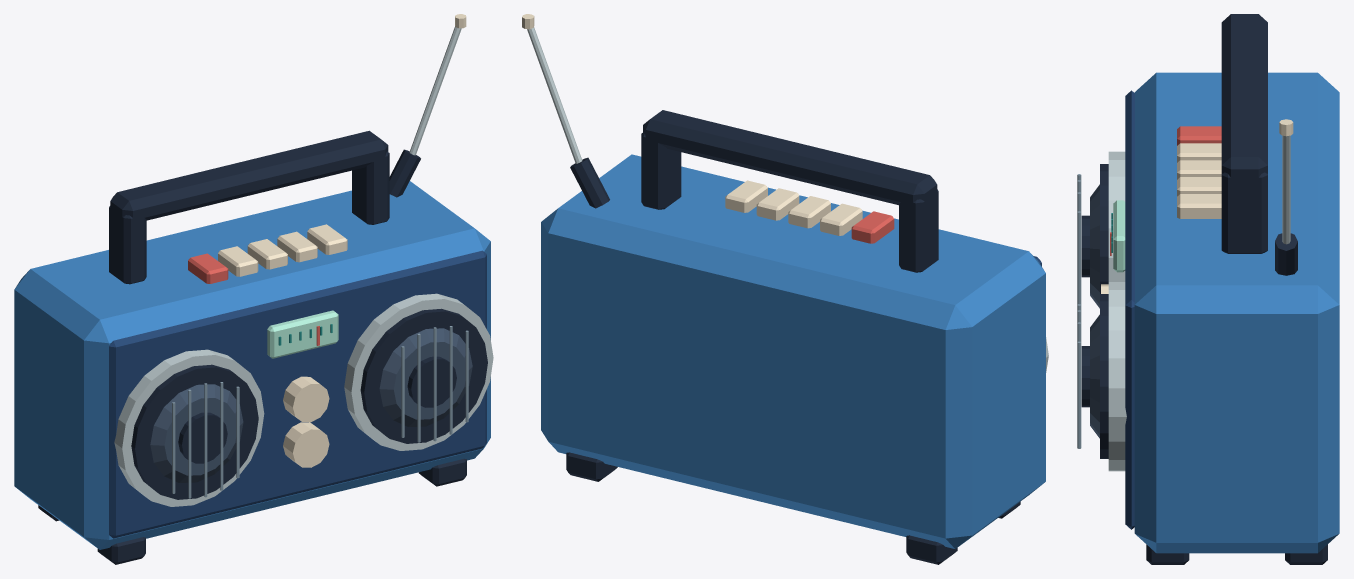
Rendered from Portable_Radio.glb.
The picture shows the model from 3 angles, left to right: view 1: azimuth 30°, elevation 25°; view 2: azimuth 150°, elevation 25°; view 3: azimuth 270°, elevation 25°; orthographic projection. The views are drawn at different scales.
Visible parts, largest first — view 1: Portable_Radio; view 2: Portable_Radio; view 3: Portable_Radio.
Part boxes in pixels (bbox=[...]): Portable_Radio: bbox=[14, 14, 493, 564]; Portable_Radio: bbox=[522, 14, 1048, 564]; Portable_Radio: bbox=[1077, 14, 1339, 564].
Bounding box in the file's own units: 3.82 × 3.4 × 1.7.
1 material, 1 textured.
